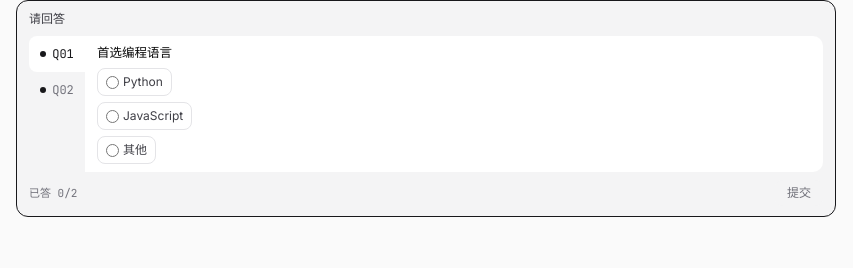
Test: ComponentPendingQuestionCard · 单选（radio） › 单选排他①：选普通项 → 关掉已展开的「其他」（互斥）
The image size is (853, 268).
Click the text "其他" at (126, 150), box [97,136,156,164]
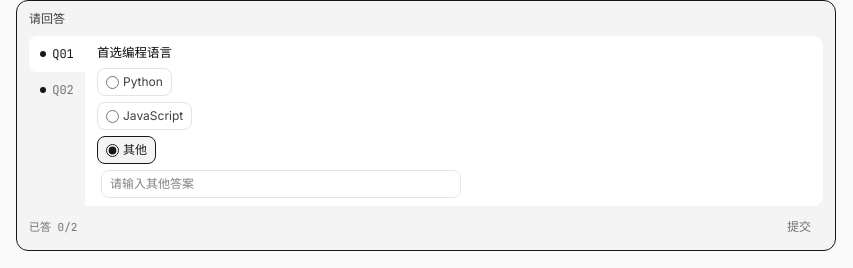
Type "Rust" into the text box with placeholder "请输入其他答案" at (281, 184), box [101,170,461,198]
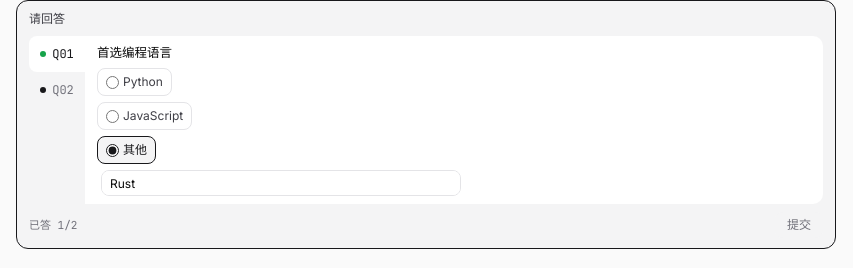
Click the text "Python" at (134, 82), box [97,68,172,96]
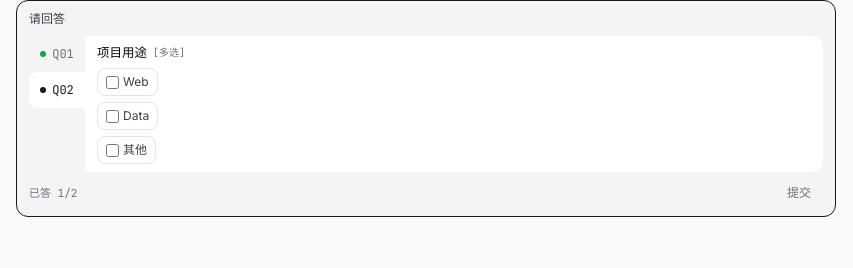
Check: the text box with placeholder "请输入其他答案" is gone
Click the button with test id "pending-q-nav-q1" at (57, 54), box [29,36,85,72]
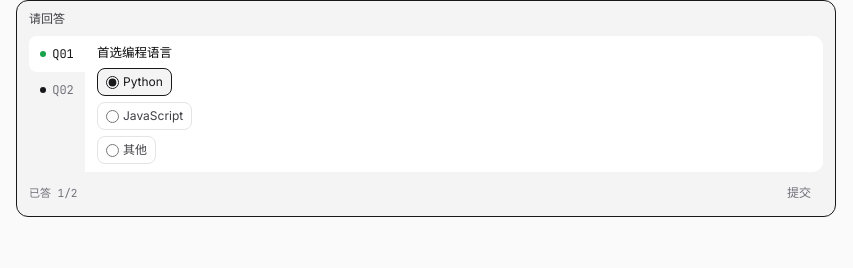
Check: the radio button labelled "Python" is checked, box [106,76,119,89]
